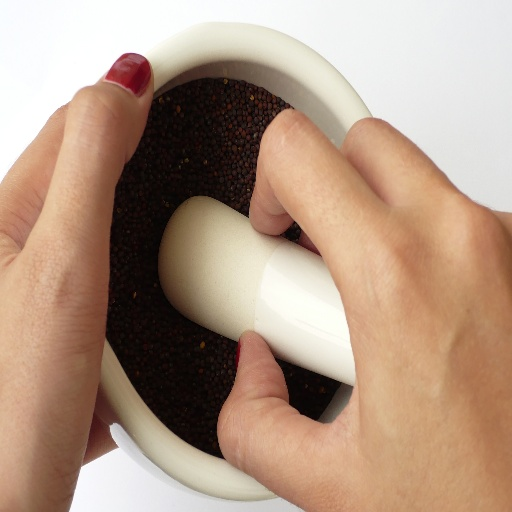hand: (201, 115, 512, 510), (0, 47, 155, 511)
